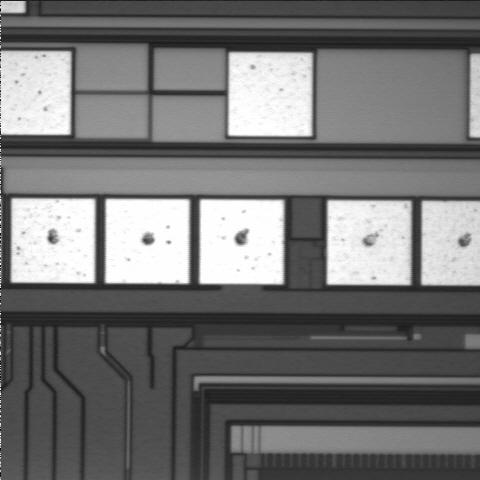pad: (105, 199, 190, 284), (199, 199, 284, 284), (11, 198, 95, 283), (327, 200, 411, 285), (228, 52, 312, 136)
